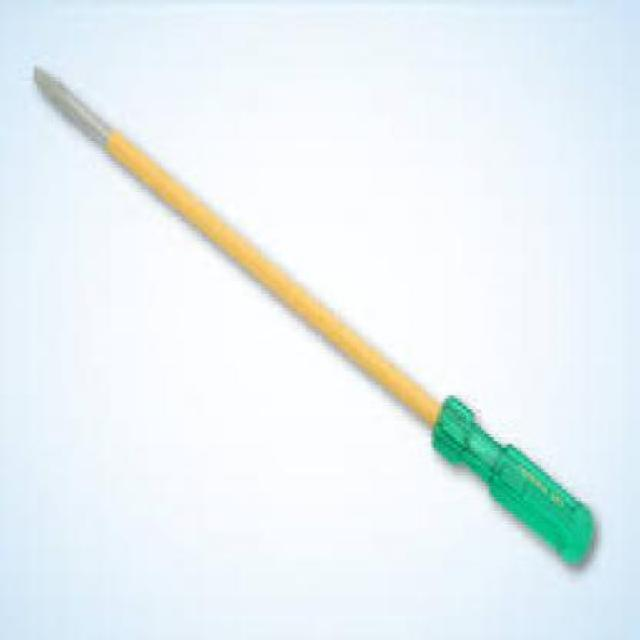screwdriver: (34, 66, 598, 577)
